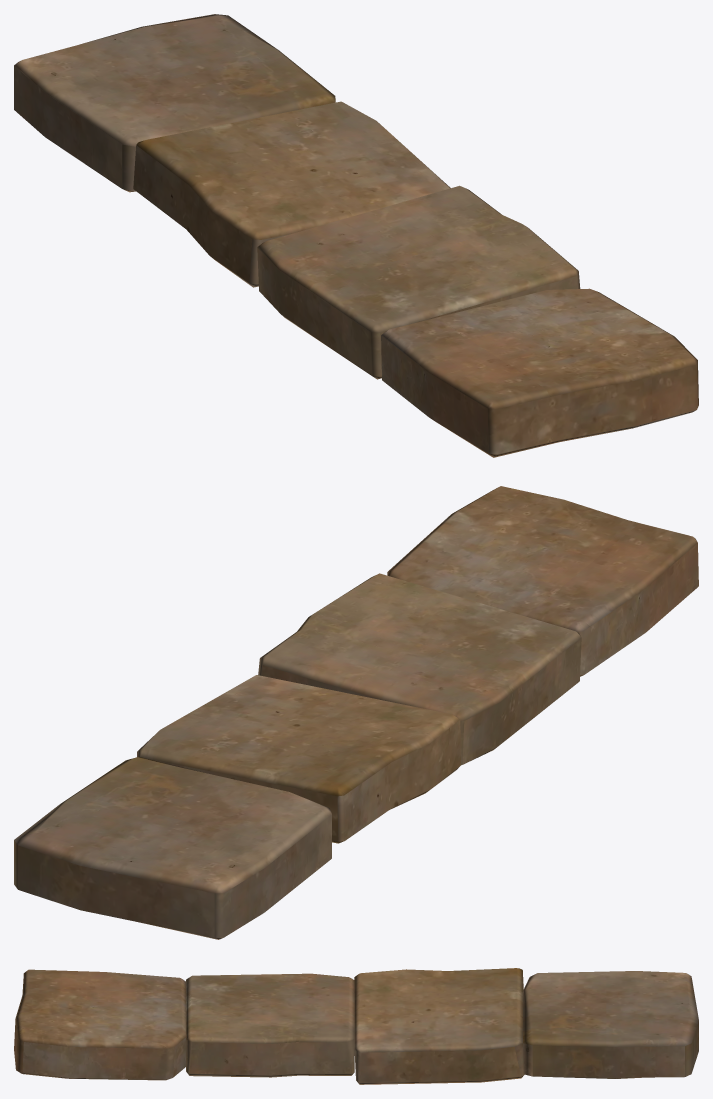
3 views of the same model, one above another, from view 1: azimuth 30°, elevation 25°; view 2: azimuth 150°, elevation 25°; view 3: azimuth 270°, elevation 25° (orthographic). The views are drawn at different scales.
Parts seen in each view (by area): view 1: SM_AgilityPlatform_1x4_LOD0; view 2: SM_AgilityPlatform_1x4_LOD0; view 3: SM_AgilityPlatform_1x4_LOD0.
Part boxes in pixels (x1,y1,x2,y2): SM_AgilityPlatform_1x4_LOD0: [14, 14, 698, 457]; SM_AgilityPlatform_1x4_LOD0: [14, 486, 698, 939]; SM_AgilityPlatform_1x4_LOD0: [14, 968, 698, 1084].
Size of the model in its own units: 1.06 by 0.3316 by 4.06.
Materials: 1 (1 with a texture image).
